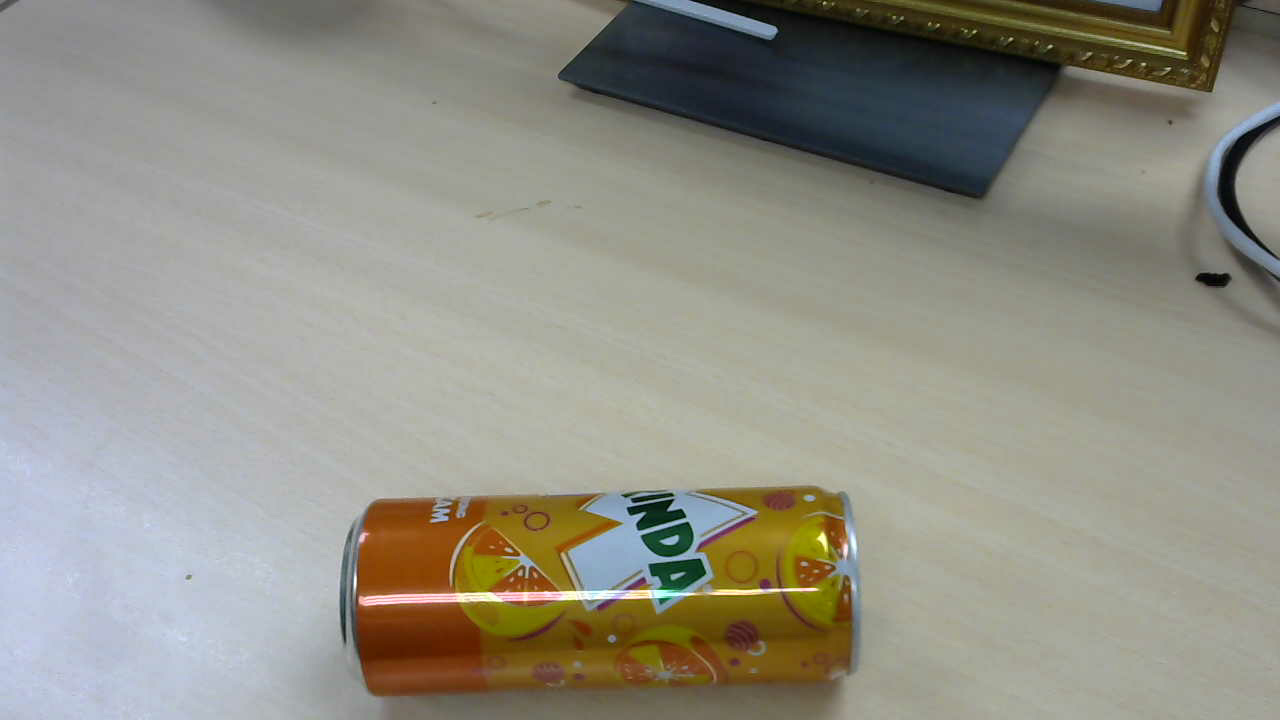Mirinda: (344, 487, 864, 698)
